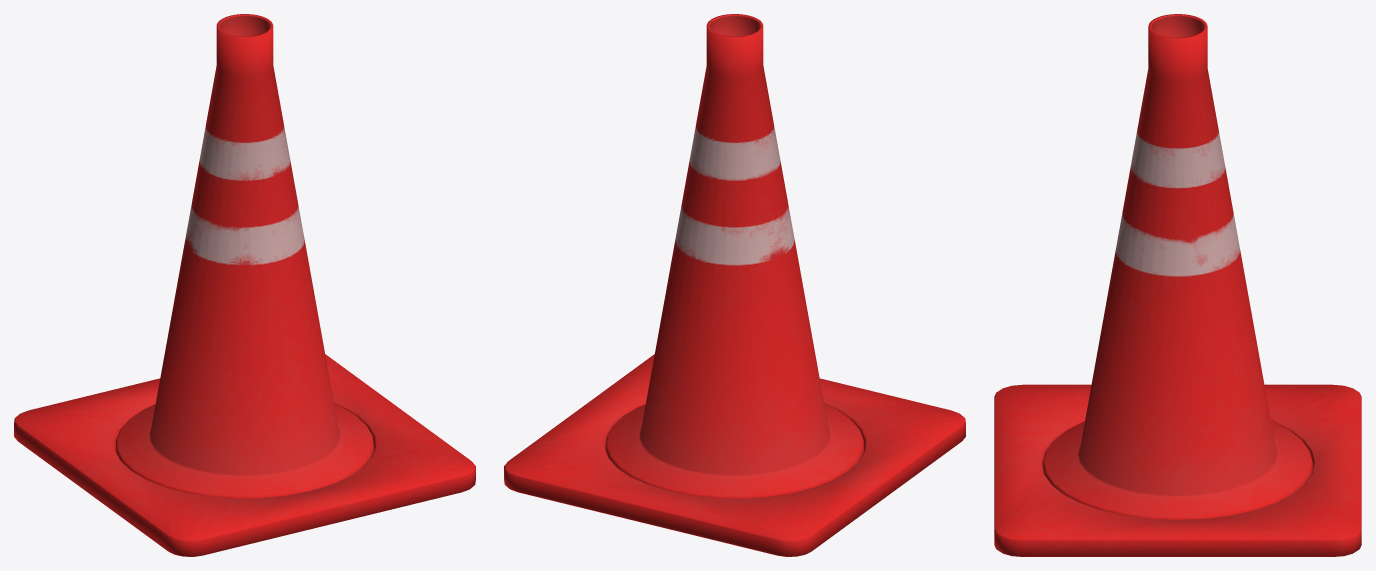
Rendered from race-track-assets-pack-conus-clear.glb.
The picture shows the model from 3 angles, left to right: view 1: azimuth 30°, elevation 25°; view 2: azimuth 150°, elevation 25°; view 3: azimuth 270°, elevation 25°; orthographic projection. The views are drawn at different scales.
Visible parts, largest first — view 1: conus_clear; view 2: conus_clear; view 3: conus_clear.
Boxes of the visible parts, bbox=[...] form: conus_clear: bbox=[14, 14, 475, 556]; conus_clear: bbox=[504, 14, 965, 556]; conus_clear: bbox=[994, 14, 1361, 556].
Bounding box in the file's own units: 0.4374 × 0.5957 × 0.4374.
Materials: 1 (1 with a texture image).
